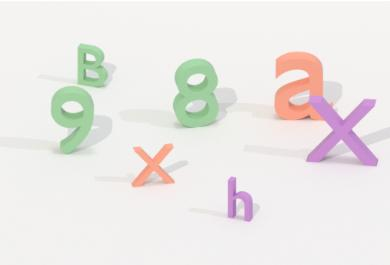8: (169, 54, 224, 132)
9: (48, 84, 101, 156)
B: (73, 40, 111, 91)
X: (305, 91, 382, 170), (128, 141, 178, 189)
a: (272, 48, 336, 124)
h: (224, 173, 257, 226)
